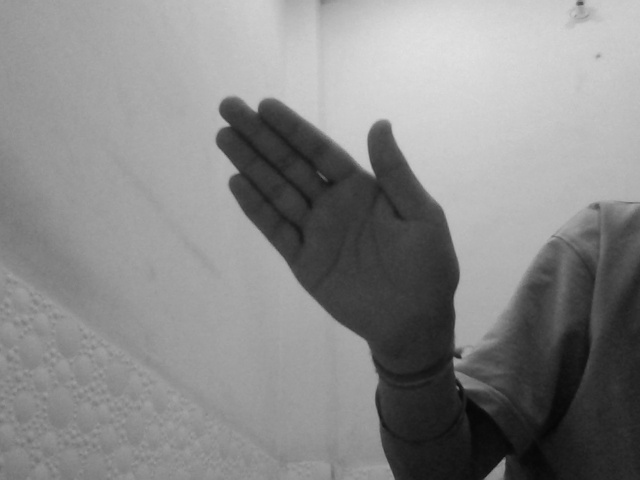Hello: (212, 92, 458, 350)
